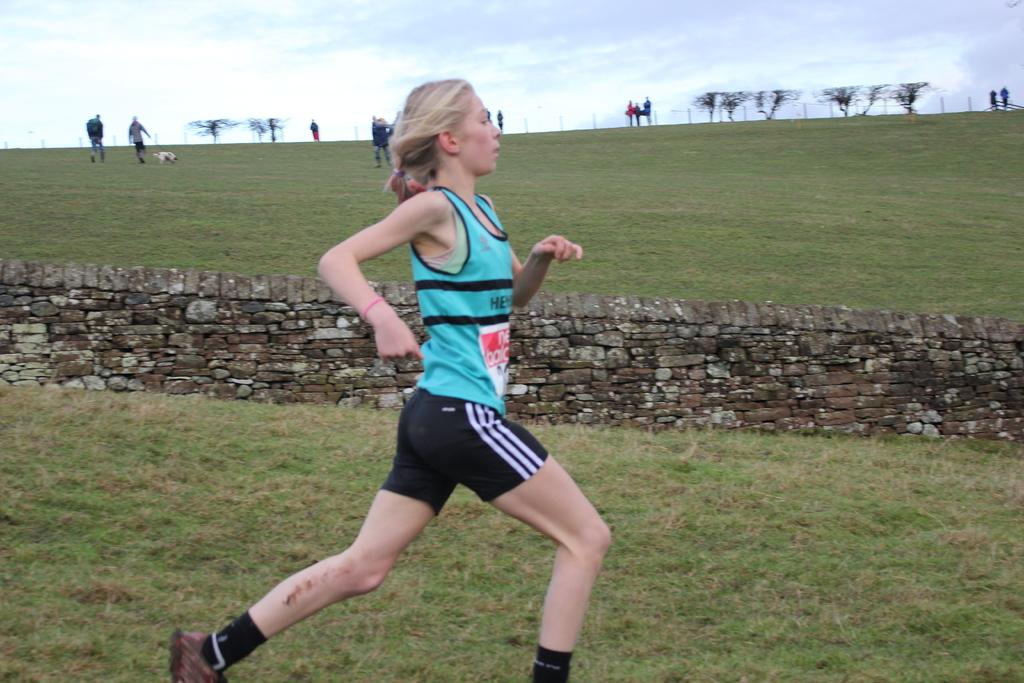no_helmet: (362, 145, 514, 221)
none: (302, 215, 608, 506)
